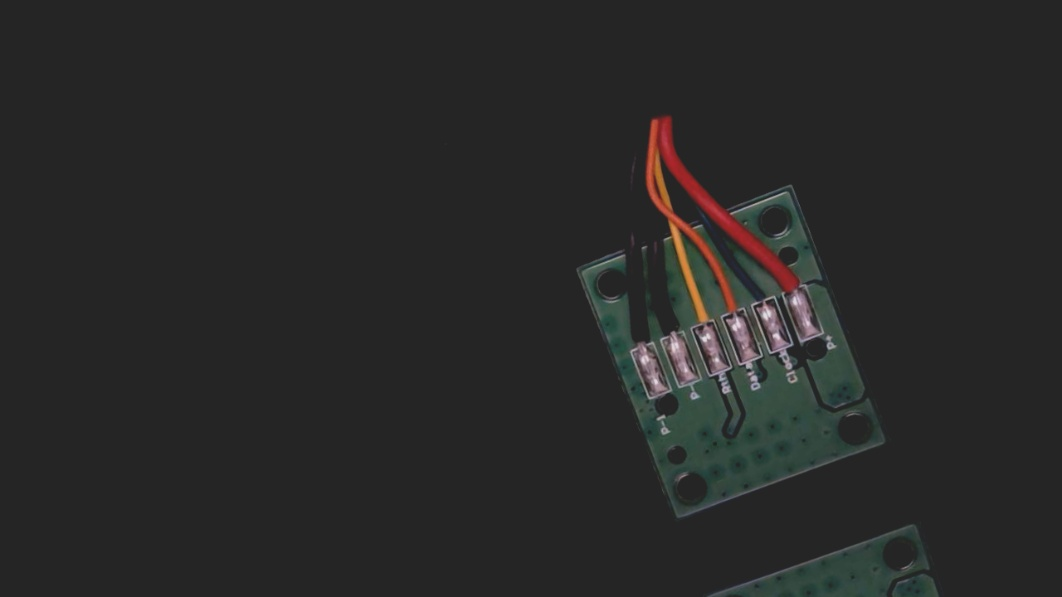Black: (646, 292, 688, 350)
Black1: (613, 300, 658, 362)
Green: (741, 268, 780, 319)
Orange: (707, 270, 751, 329)
Red: (767, 248, 812, 307)
Yellow: (677, 282, 719, 340)
